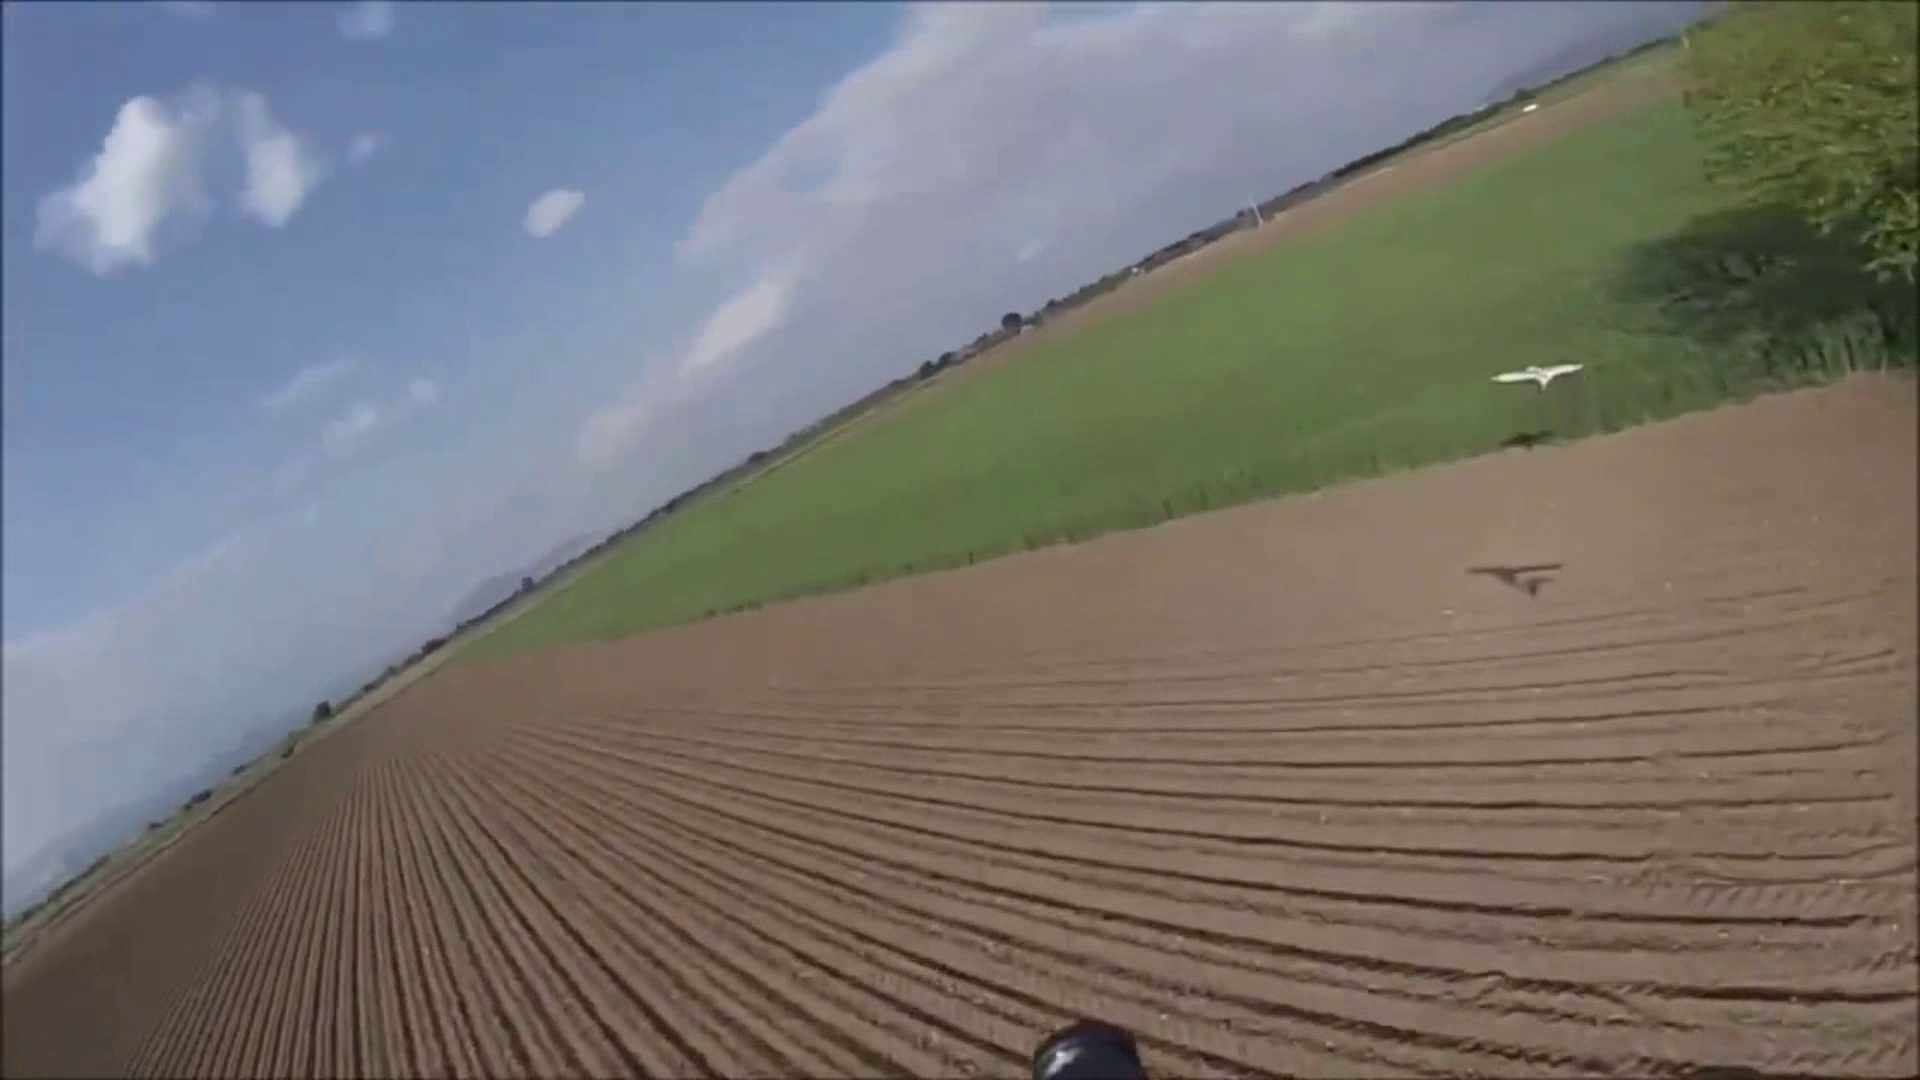airplane: (1466, 562, 1564, 596)
